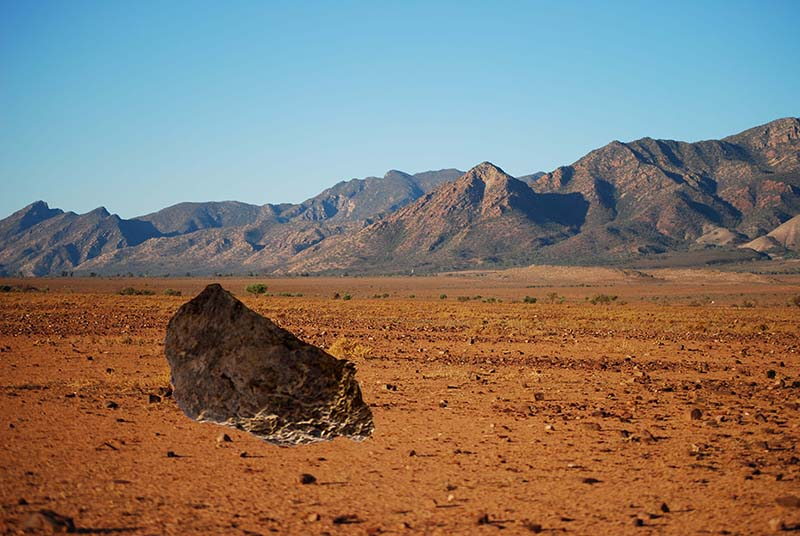Rocks: (160, 282, 385, 455)
